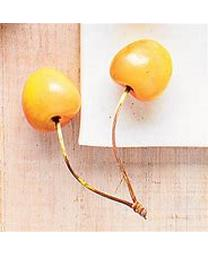cherry: (110, 38, 173, 100), (22, 68, 82, 130)
